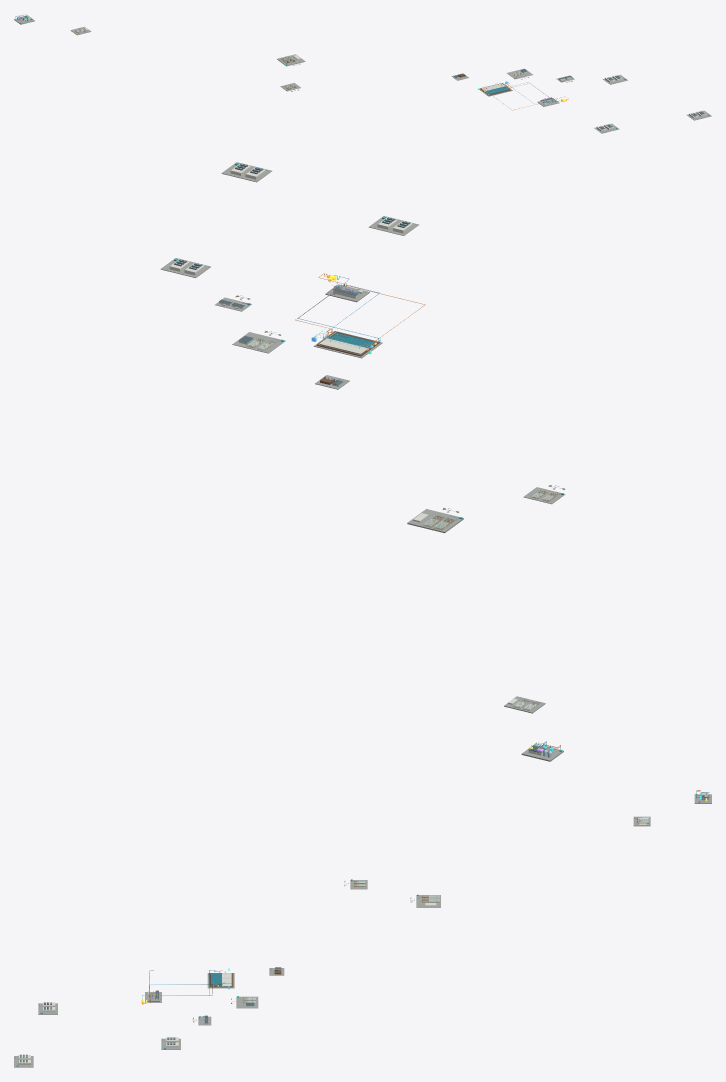
The model's file is facilities.glb.
The picture shows the model from 3 angles, top to bottom: view 1: azimuth 30°, elevation 25°; view 2: azimuth 150°, elevation 25°; view 3: azimuth 270°, elevation 25°; orthographic projection. The views are drawn at different scales.
Bounding box in the file's own units: 5667 × 85.44 × 6215.
